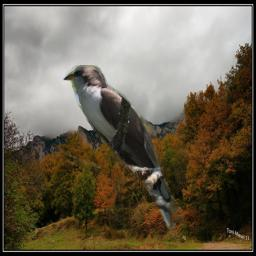Cuckoo: (62, 65, 186, 229)
